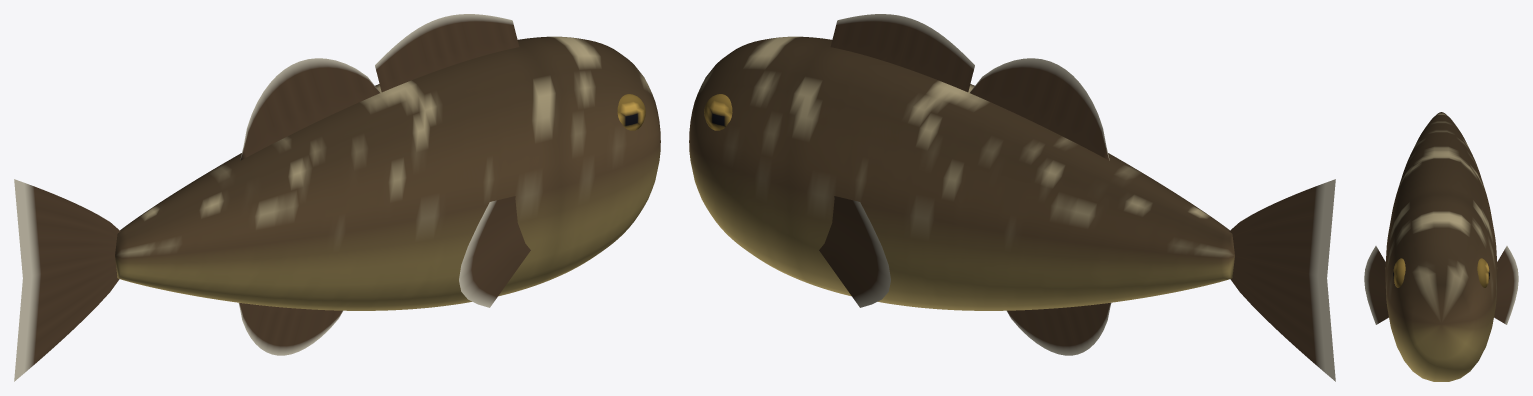
Rendered from orfoz.glb.
3 views of the same model, side by side, from view 1: azimuth 30°, elevation 25°; view 2: azimuth 150°, elevation 25°; view 3: azimuth 270°, elevation 25° (orthographic). The views are drawn at different scales.
Visible parts, largest first — view 1: orfoz_govde, orfoz_kuyruk, orfoz_sirt2, orfoz_sirt, orfoz_gogusL, orfoz_anal_a, orfoz_gozL; view 2: orfoz_govde, orfoz_kuyruk, orfoz_sirt2, orfoz_sirt, orfoz_gogusR, orfoz_anal_a, orfoz_gozR; view 3: orfoz_govde, orfoz_gogusL, orfoz_gogusR, orfoz_gozL, orfoz_gozR.
Part boxes in pixels (bbox=[...]): orfoz_govde: bbox=[115, 36, 660, 310]; orfoz_kuyruk: bbox=[14, 179, 120, 381]; orfoz_sirt2: bbox=[240, 58, 379, 160]; orfoz_sirt: bbox=[375, 14, 519, 92]; orfoz_gogusL: bbox=[459, 196, 530, 307]; orfoz_anal_a: bbox=[238, 303, 342, 355]; orfoz_gozL: bbox=[617, 94, 645, 130]; orfoz_govde: bbox=[689, 36, 1234, 310]; orfoz_kuyruk: bbox=[1229, 179, 1335, 381]; orfoz_sirt2: bbox=[970, 58, 1109, 160]; orfoz_sirt: bbox=[830, 14, 974, 92]; orfoz_gogusR: bbox=[819, 196, 890, 307]; orfoz_anal_a: bbox=[1007, 303, 1111, 355]; orfoz_gozR: bbox=[704, 94, 732, 130]; orfoz_govde: bbox=[1385, 112, 1497, 381]; orfoz_gogusL: bbox=[1364, 246, 1388, 324]; orfoz_gogusR: bbox=[1494, 246, 1518, 324]; orfoz_gozL: bbox=[1393, 258, 1405, 287]; orfoz_gozR: bbox=[1477, 258, 1489, 287].
Size of the model in its own units: 0.985 by 0.4436 by 0.2752.
